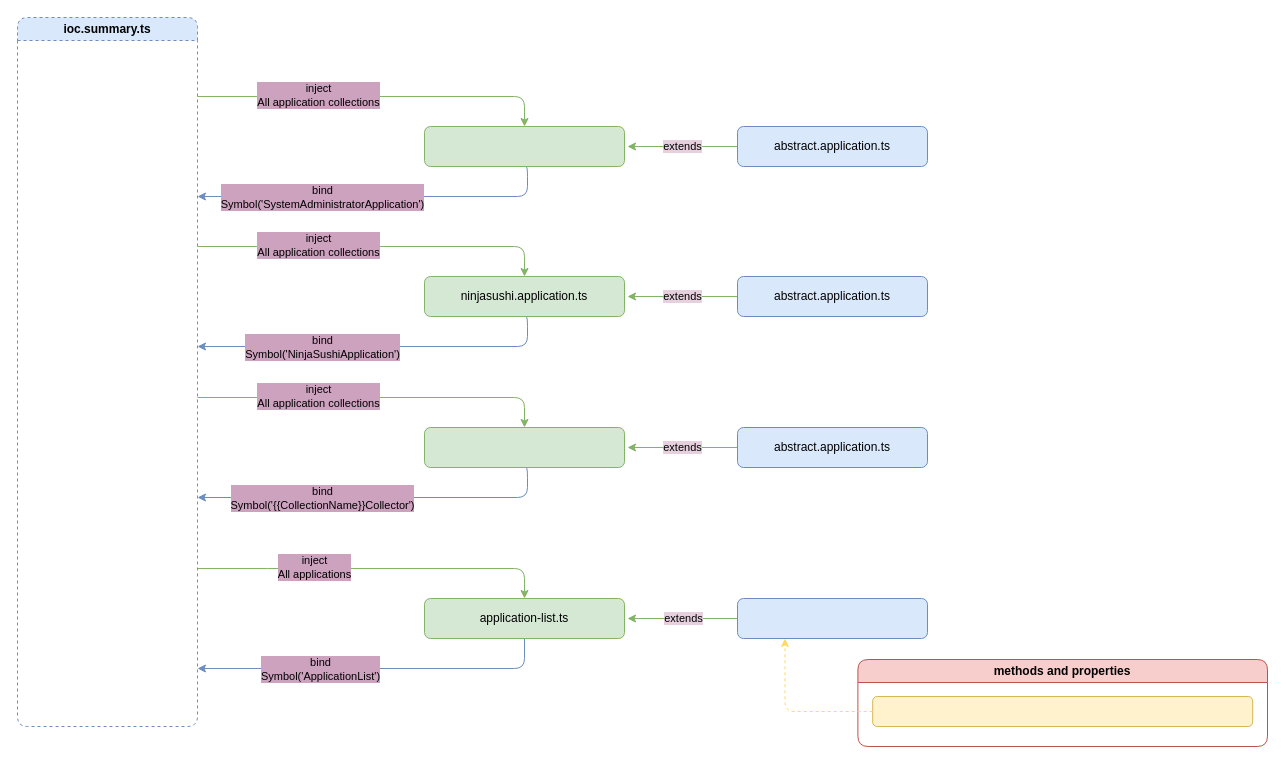
Image size: 1285x764. Some labels were removed from this diagram. The centre of each missing label's shape, as x and y in pixels:
"abstract.application-list.ts" goes at (x=832, y=618).
"protect abstract _applications: Set<IAbstractCollector>" goes at (x=1062, y=711).
"sys-admin.application.ts" goes at (x=524, y=146).
"{{application-name}}.application.ts" goes at (x=524, y=447).
